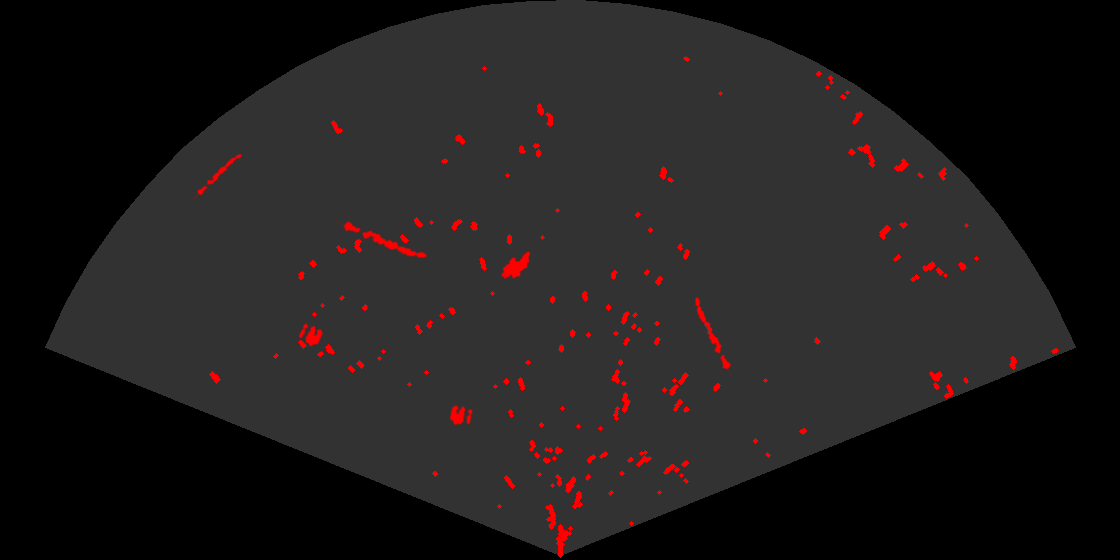AUV: (500, 250, 532, 280)
ball: (297, 322, 325, 348), (448, 404, 474, 427)
chain: (335, 219, 429, 260), (693, 295, 733, 376), (191, 152, 244, 199)
